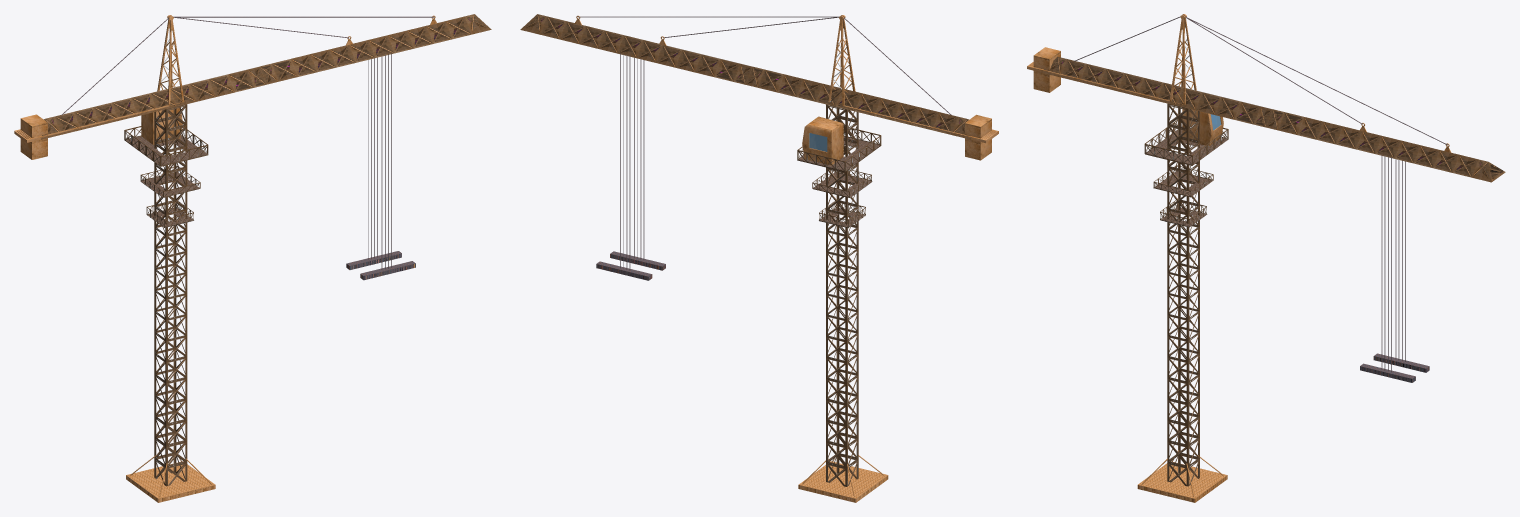
File: tower crane.FBX
The picture shows the model from 3 angles, left to right: view 1: azimuth 30°, elevation 25°; view 2: azimuth 150°, elevation 25°; view 3: azimuth 330°, elevation 25°; orthographic projection.
Parts seen in each view (by area): view 1: Rectangle044, Object005, Object001, Object004; view 2: Rectangle044, Object005, Object001, Object004; view 3: Rectangle044, Object005, Object001, Object004.
Part boxes in pixels (x1=…): Rectangle044: x1=14, y1=15, x2=436, y2=502; Object005: x1=41, y1=14, x2=491, y2=139; Object001: x1=154, y1=104, x2=187, y2=486; Object004: x1=124, y1=126, x2=208, y2=166; Rectangle044: x1=574, y1=15, x2=998, y2=502; Object005: x1=520, y1=14, x2=971, y2=139; Object001: x1=826, y1=104, x2=858, y2=486; Object004: x1=797, y1=128, x2=881, y2=171; Rectangle044: x1=1027, y1=14, x2=1451, y2=502; Object005: x1=1040, y1=56, x2=1505, y2=182; Object001: x1=1167, y1=103, x2=1199, y2=486; Object004: x1=1144, y1=120, x2=1228, y2=165.
Bounding box in the file's own units: 1344 × 193 × 1295.
